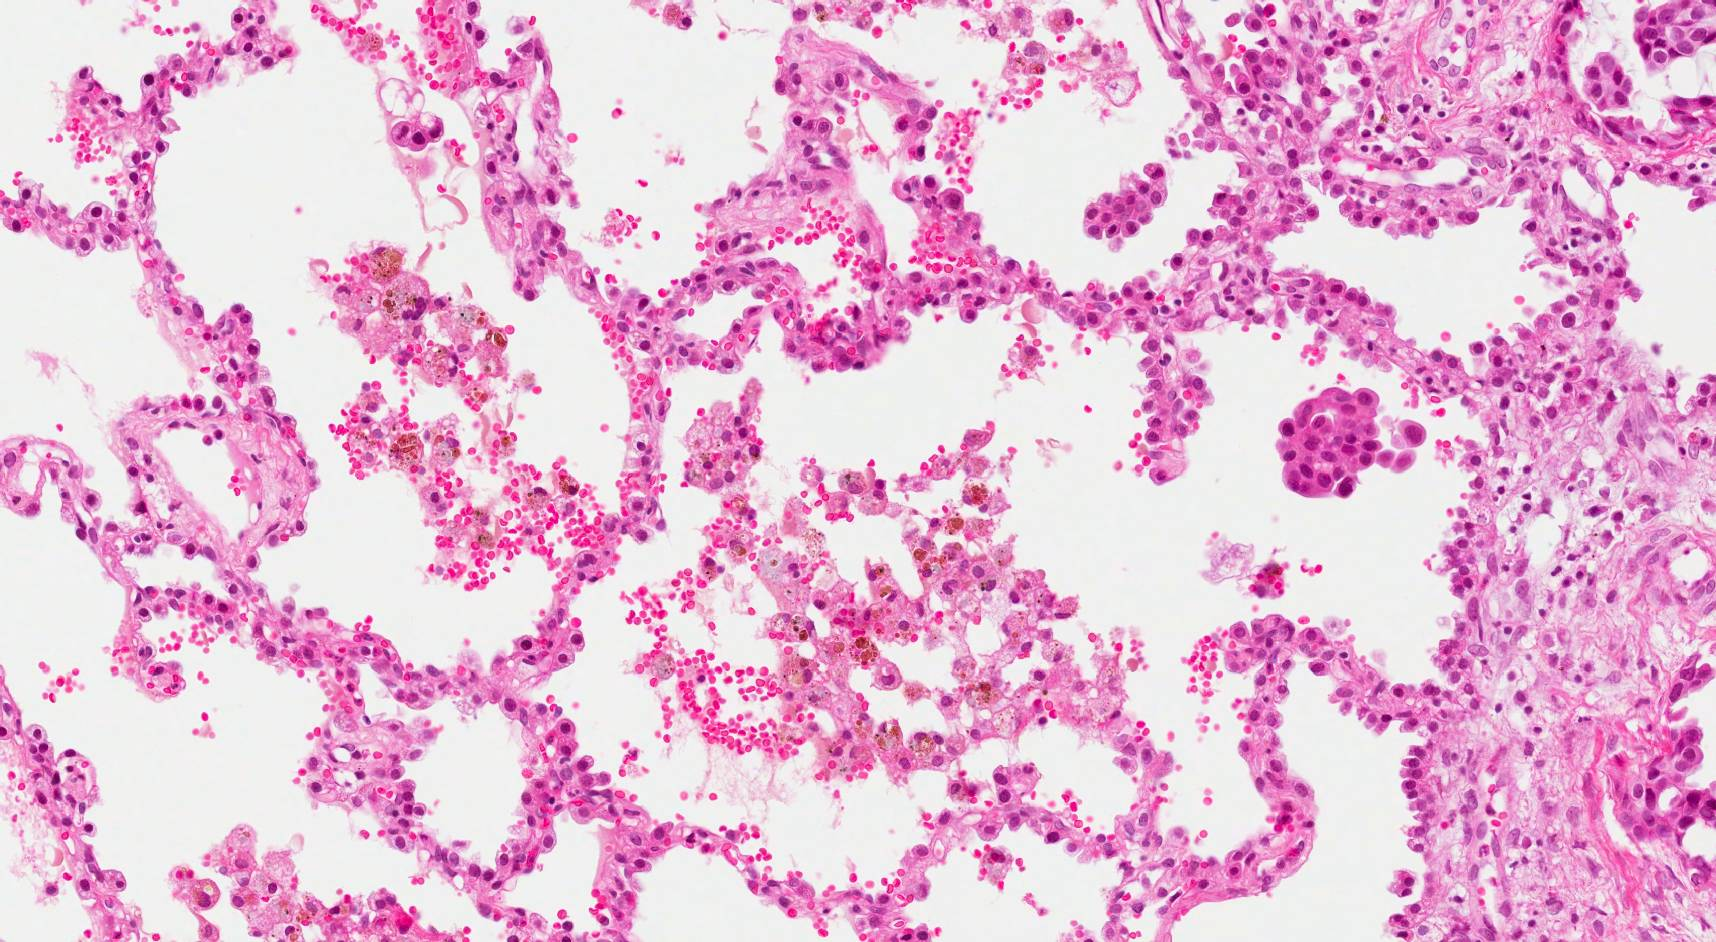stas: (1276, 384, 1431, 500), (1080, 162, 1175, 240), (379, 77, 446, 150)
